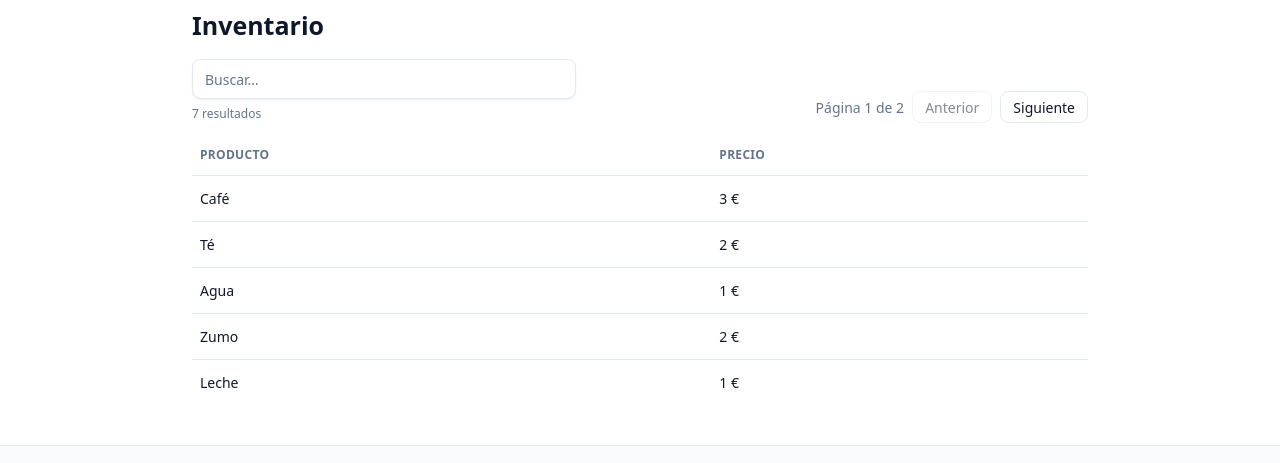
Test: bloque table › vuelve a la página 1 al cambiar la búsqueda
Click the button "Siguiente".
click(1044, 107)  # box x1=1000 y1=91 x2=1088 y2=123
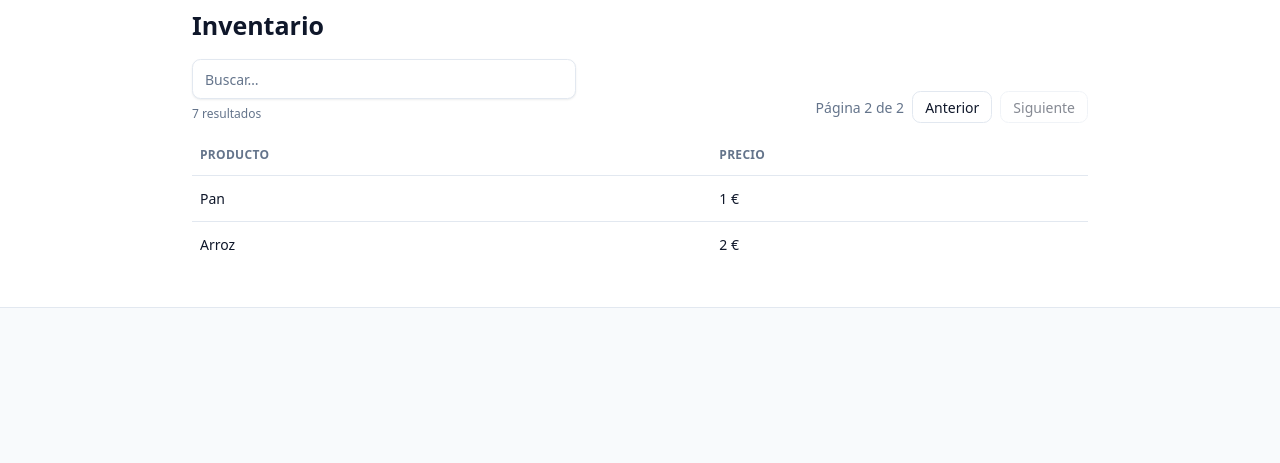
Expected: the text "Página 2 de 2" is shown, x1=816 y1=97 x2=904 y2=118
Type "cafe" into the search field named "Buscar en la tabla".
click(384, 79); type("cafe")  # box x1=192 y1=59 x2=576 y2=99
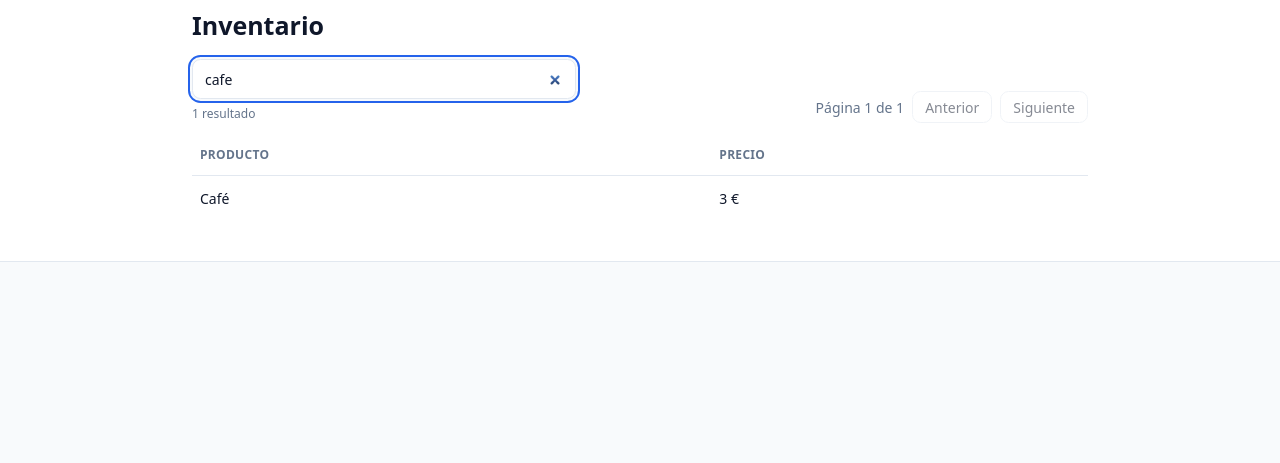
Expected: the text "Página 1 de 1" is shown, x1=816 y1=97 x2=904 y2=118
Expected: the cell "Café" is shown, x1=192 y1=176 x2=711 y2=221
